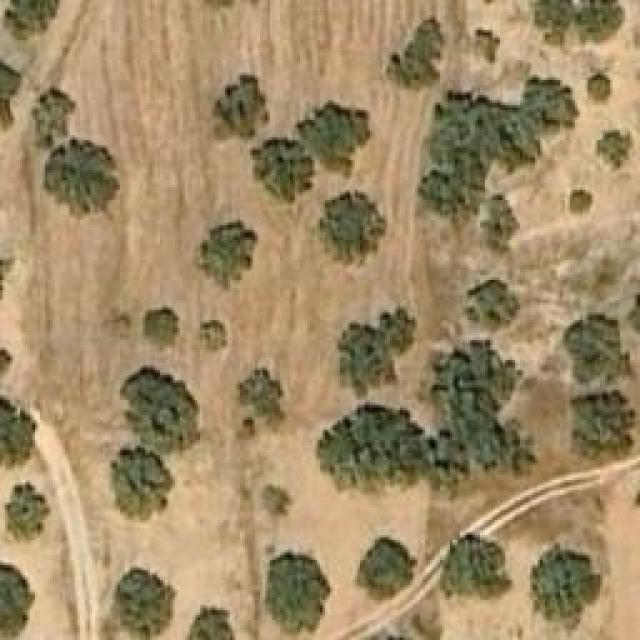Tree: (418, 78, 578, 231), (428, 340, 537, 479), (318, 410, 428, 490), (337, 308, 415, 398), (530, 543, 603, 636), (120, 367, 198, 445), (310, 188, 385, 268), (43, 140, 121, 216), (265, 548, 331, 634), (565, 313, 638, 386), (110, 445, 175, 523), (253, 130, 317, 202), (112, 567, 175, 640), (440, 535, 510, 600), (387, 18, 445, 93), (193, 223, 258, 288), (570, 390, 635, 455), (310, 100, 376, 164), (355, 533, 417, 600), (213, 75, 266, 140), (462, 280, 520, 333), (0, 558, 35, 638), (237, 367, 285, 425), (0, 395, 38, 465), (478, 193, 522, 248), (5, 483, 48, 538), (33, 87, 73, 146), (5, 0, 60, 40), (575, 0, 621, 47), (0, 58, 28, 131), (530, 0, 575, 43), (187, 605, 235, 640), (143, 305, 178, 350), (598, 130, 633, 170), (258, 483, 292, 518), (473, 23, 501, 62), (195, 322, 228, 350), (585, 73, 610, 106), (570, 190, 593, 215)
